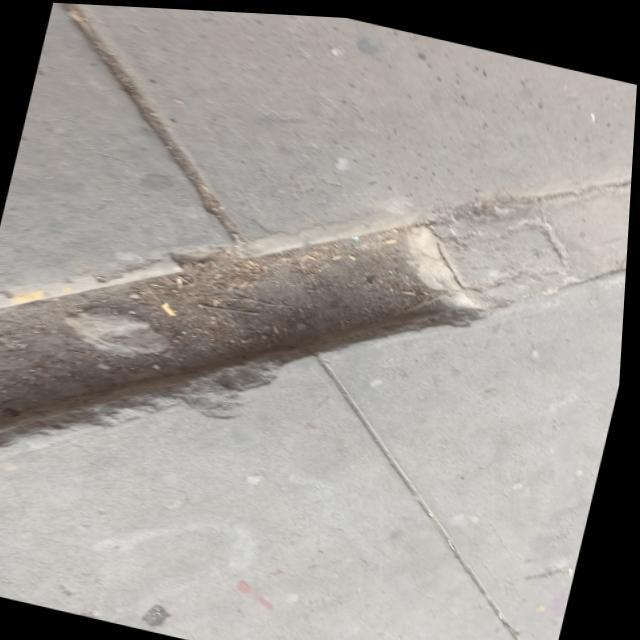hole: (1, 202, 492, 463)
